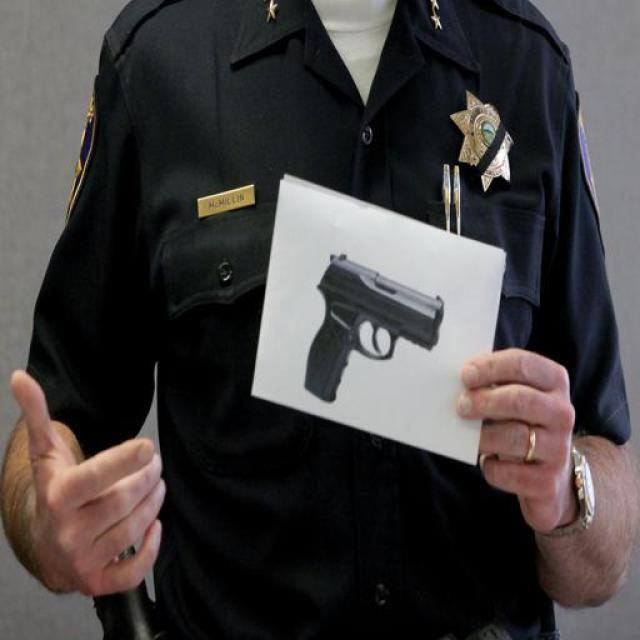pistol: (294, 241, 444, 409)
